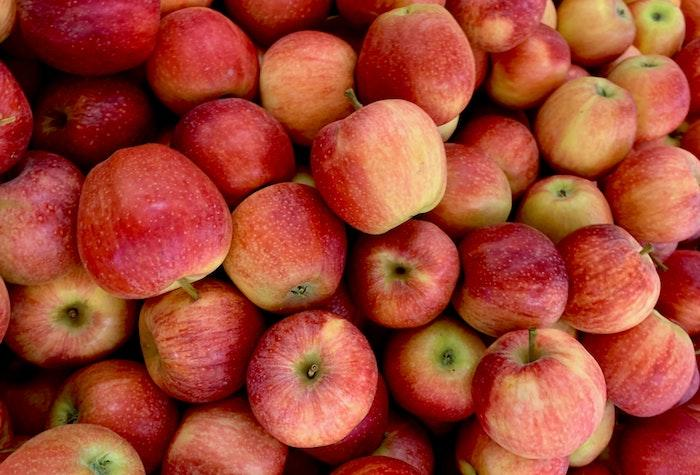Apple: (73, 139, 233, 300), (305, 71, 447, 238), (244, 307, 382, 449), (475, 321, 604, 459), (226, 183, 344, 313), (33, 77, 164, 191), (137, 282, 257, 402), (163, 99, 296, 203), (9, 260, 131, 372), (541, 224, 662, 336), (50, 363, 174, 472), (362, 8, 477, 125), (452, 227, 565, 340), (352, 211, 458, 330), (148, 9, 255, 125), (1, 149, 88, 286), (598, 303, 694, 424), (259, 32, 363, 143), (386, 318, 488, 424), (19, 0, 161, 74), (533, 77, 637, 177), (158, 394, 282, 475), (602, 144, 700, 242), (420, 142, 515, 242), (481, 23, 569, 120), (522, 174, 613, 264), (453, 118, 538, 208), (601, 56, 687, 144), (2, 423, 146, 475), (447, 0, 552, 54), (557, 0, 634, 68), (626, 3, 689, 66), (659, 250, 700, 332)
